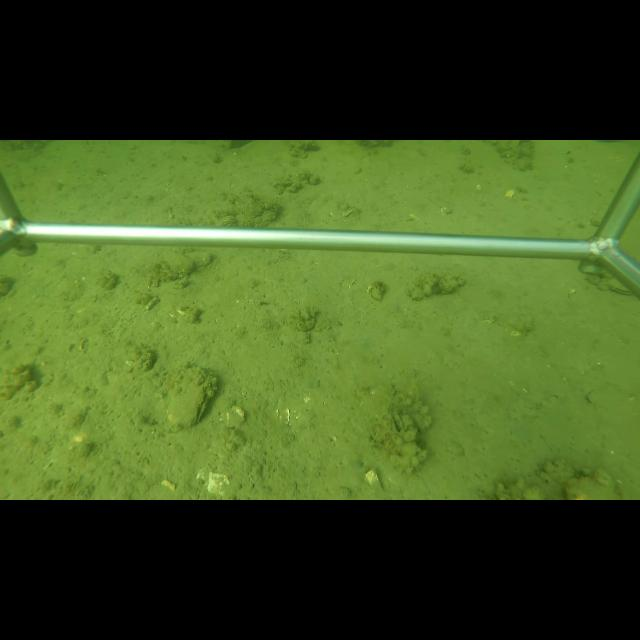Oyster-Closed: (165, 370, 215, 426)
Oyster-Open: (606, 275, 636, 297)
